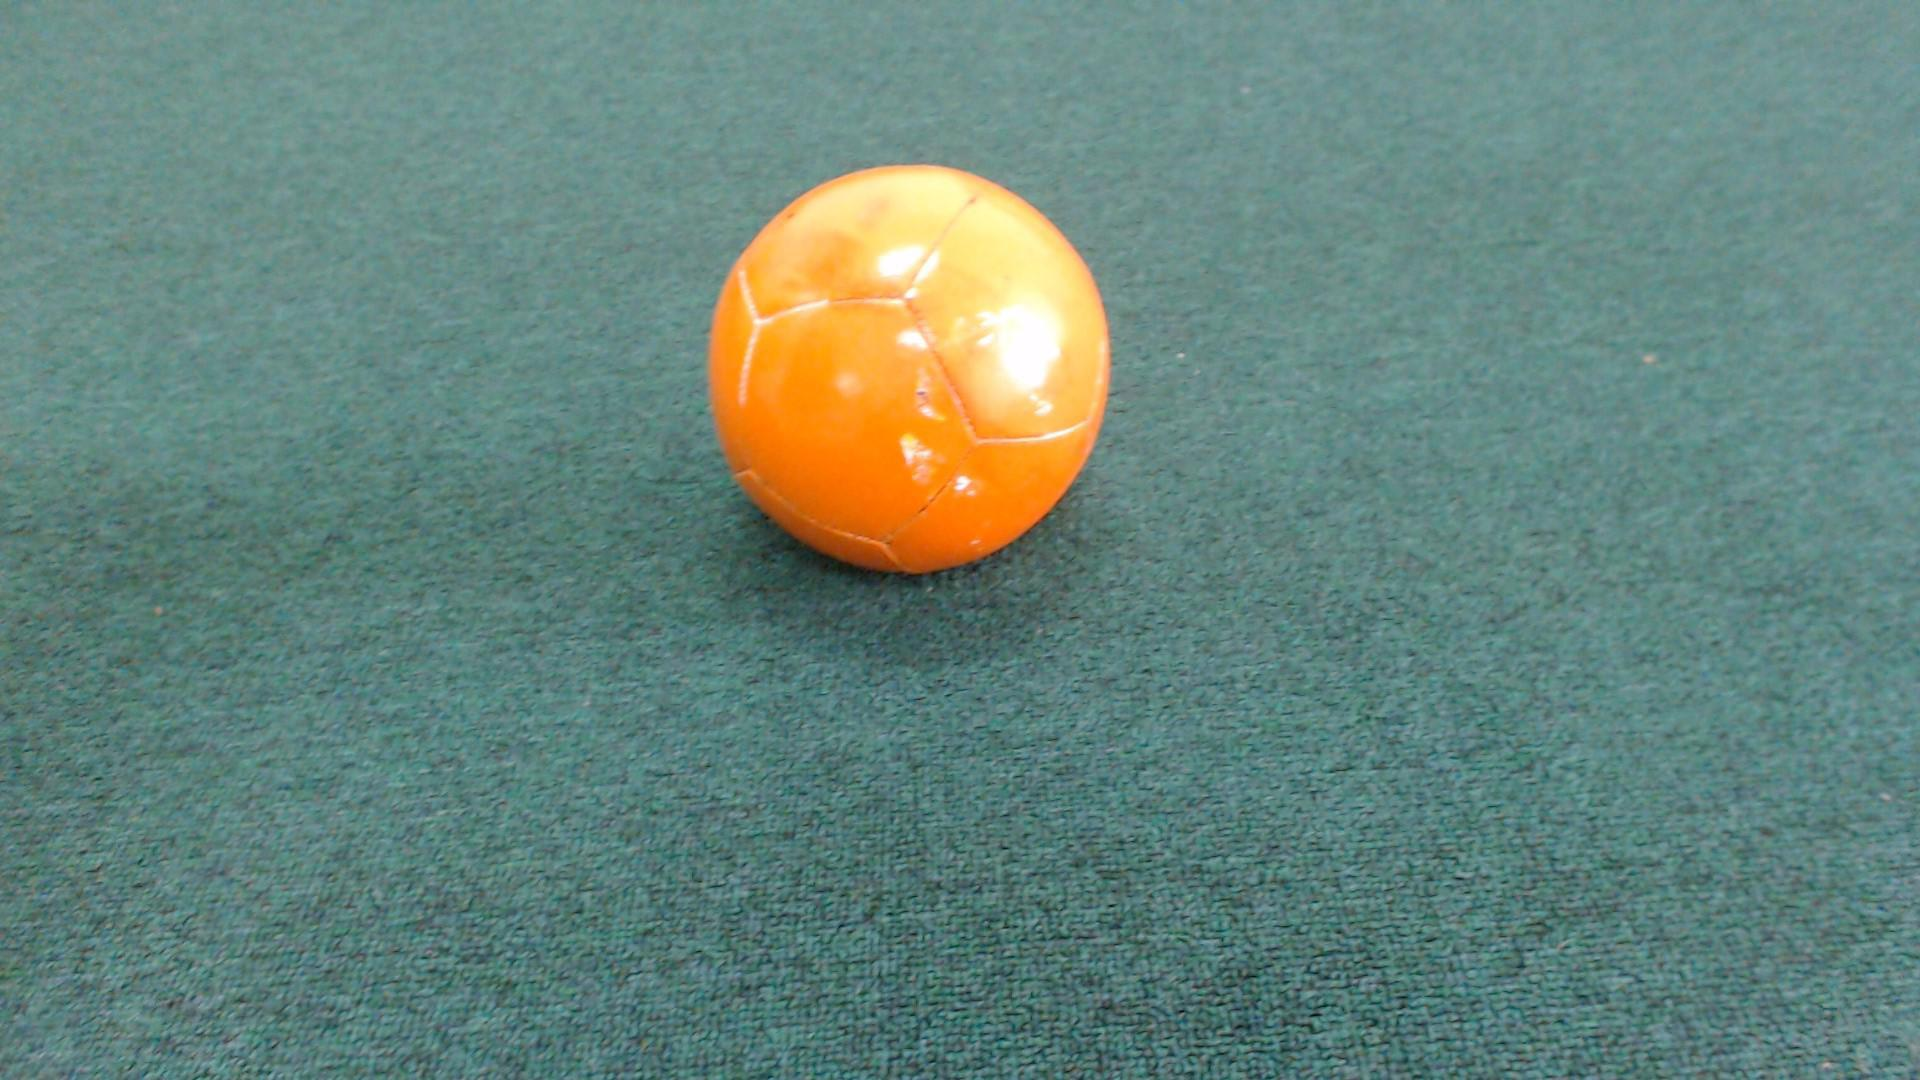bola: (676, 152, 1130, 574)
